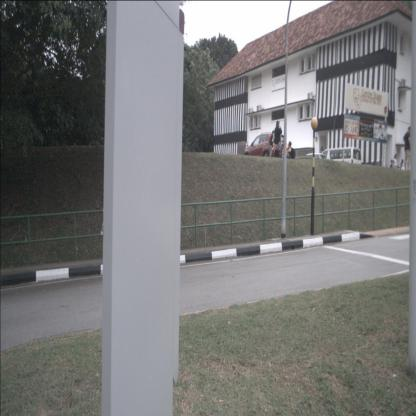human-pedestrian-adult: (403, 126, 411, 172), (274, 120, 282, 160), (282, 141, 296, 159), (268, 130, 276, 160), (392, 154, 398, 176), (389, 159, 394, 180), (400, 158, 404, 176)
vehicle-car: (242, 130, 288, 159), (319, 147, 361, 171), (304, 153, 326, 166)
